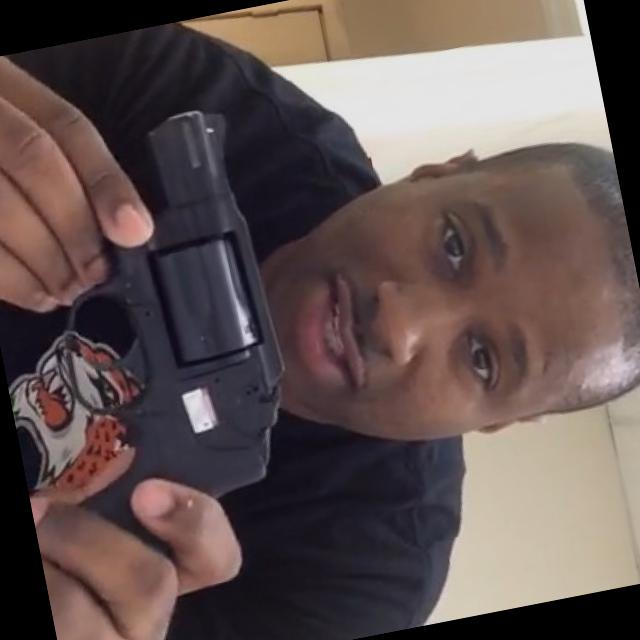handgun: (0, 95, 327, 586)
